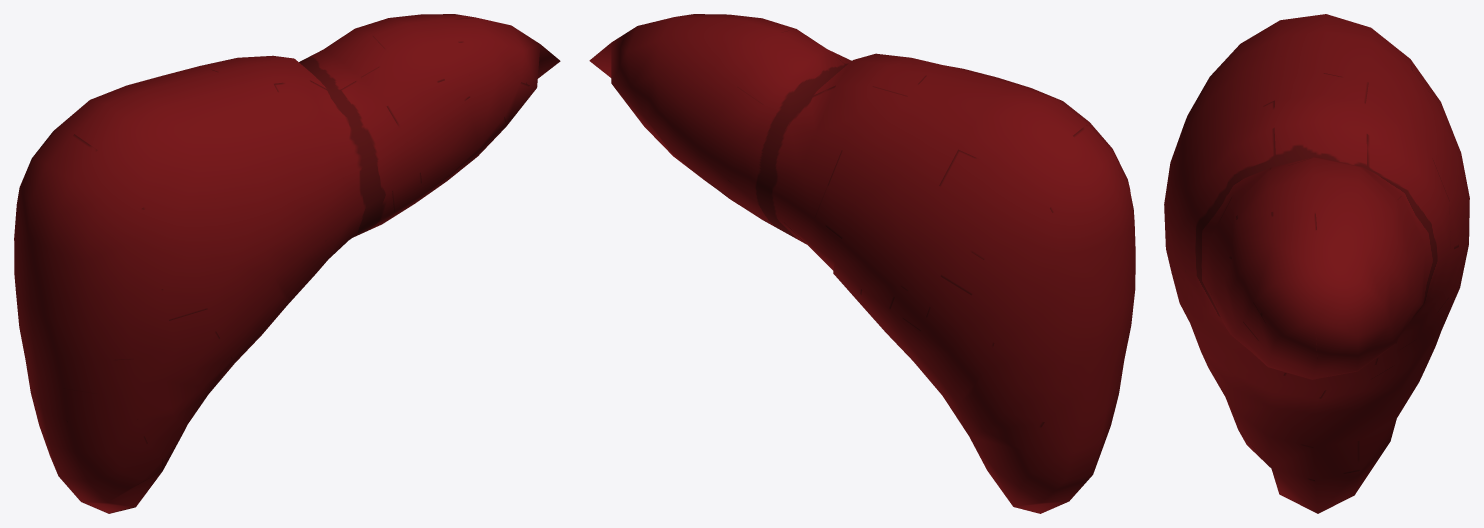
File: pechen_low_glb.gltf
The picture shows the model from 3 angles, left to right: view 1: azimuth 30°, elevation 25°; view 2: azimuth 150°, elevation 25°; view 3: azimuth 270°, elevation 25°; orthographic projection. The views are drawn at different scales.
Visible parts, largest first — view 1: печень; view 2: печень; view 3: печень.
Part boxes in pixels (x1,y1,x2,y2): печень: [14, 14, 560, 513]; печень: [589, 14, 1135, 513]; печень: [1164, 14, 1469, 513].
Bounding box in the file's own units: 7.72 × 5.8 × 3.17.
Materials: 1 (1 with a texture image).
